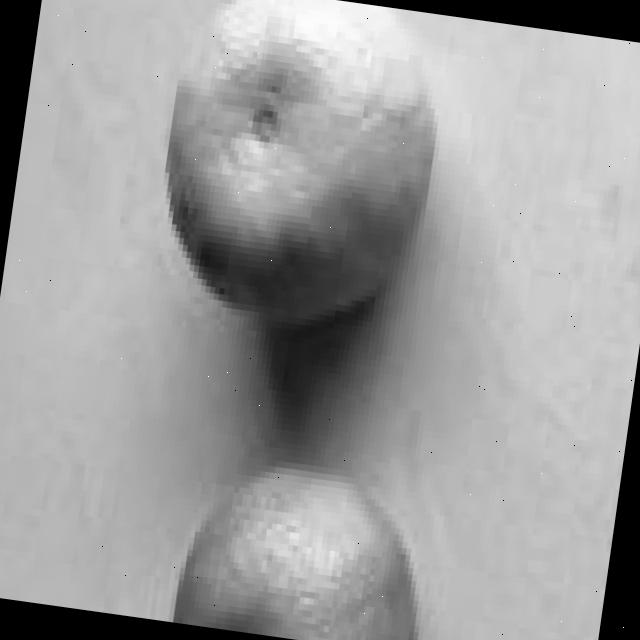Good_Orange-15-21 days: (166, 0, 443, 330), (176, 459, 425, 640)
